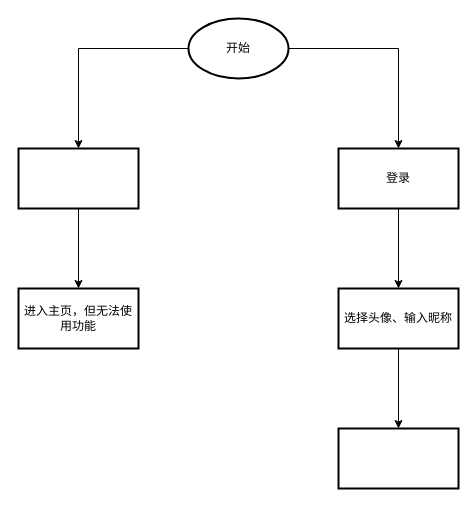
Image size: 476x506. Some labels were removed from this diagram. The centre of each missing label's shape, as x and y in pixels:
游客模式: the point at 78,178
进入主页: the point at 398,458
